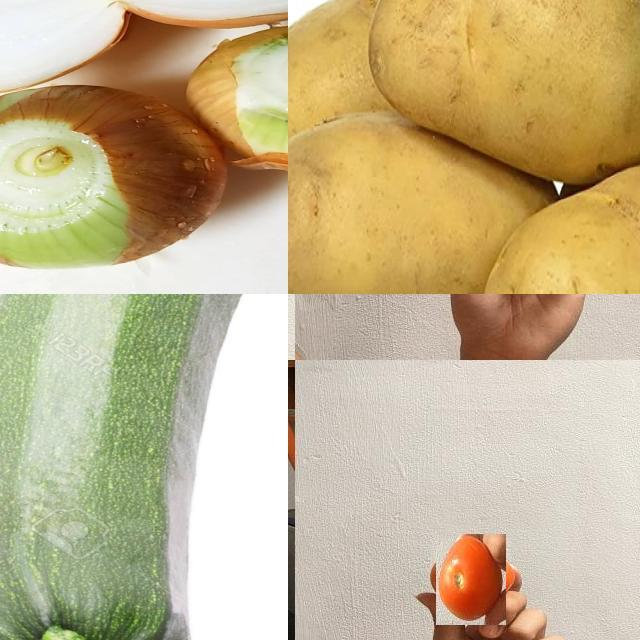onion: (1, 85, 229, 270), (189, 23, 289, 172), (1, 1, 127, 98)
potato: (289, 109, 558, 295), (370, 1, 640, 179), (485, 166, 640, 295)
tomato: (432, 539, 513, 621)
zucchini: (1, 295, 257, 640)
